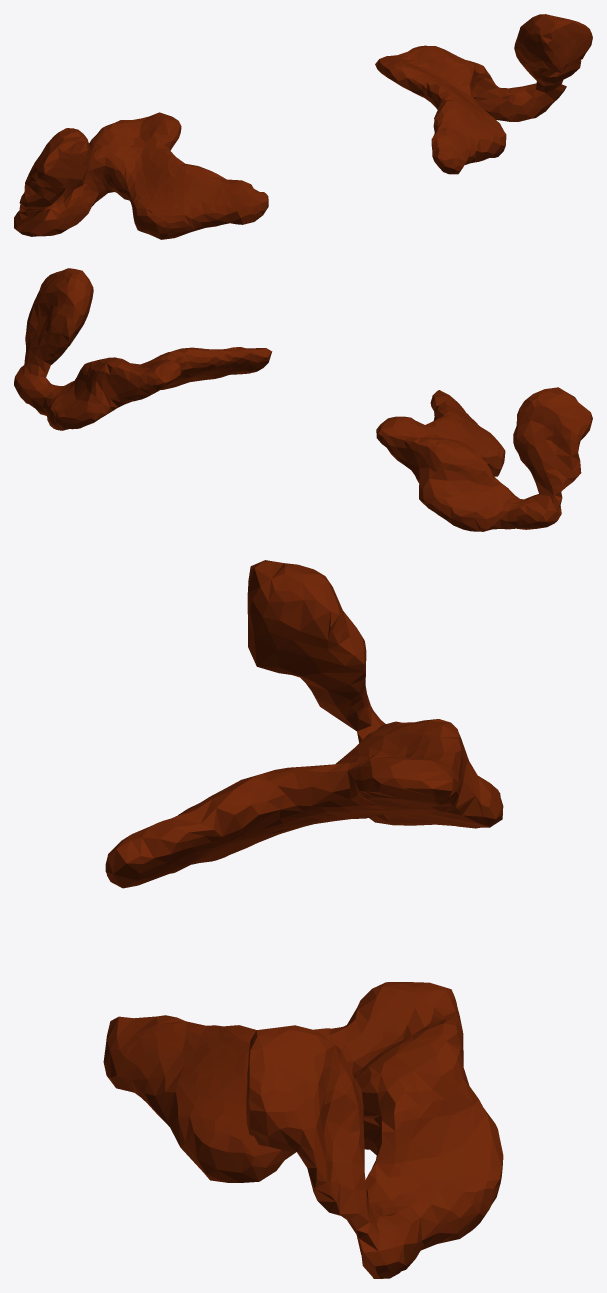
File: 118-V3V-visual area 3, ventral part-('0.4980', '0.1529', '0.0000').obj
3 views of the same model, one above another, from view 1: azimuth 30°, elevation 25°; view 2: azimuth 150°, elevation 25°; view 3: azimuth 270°, elevation 25° (orthographic). The views are drawn at different scales.
Bounding box in the file's own units: 306 × 63.58 × 95.43.
